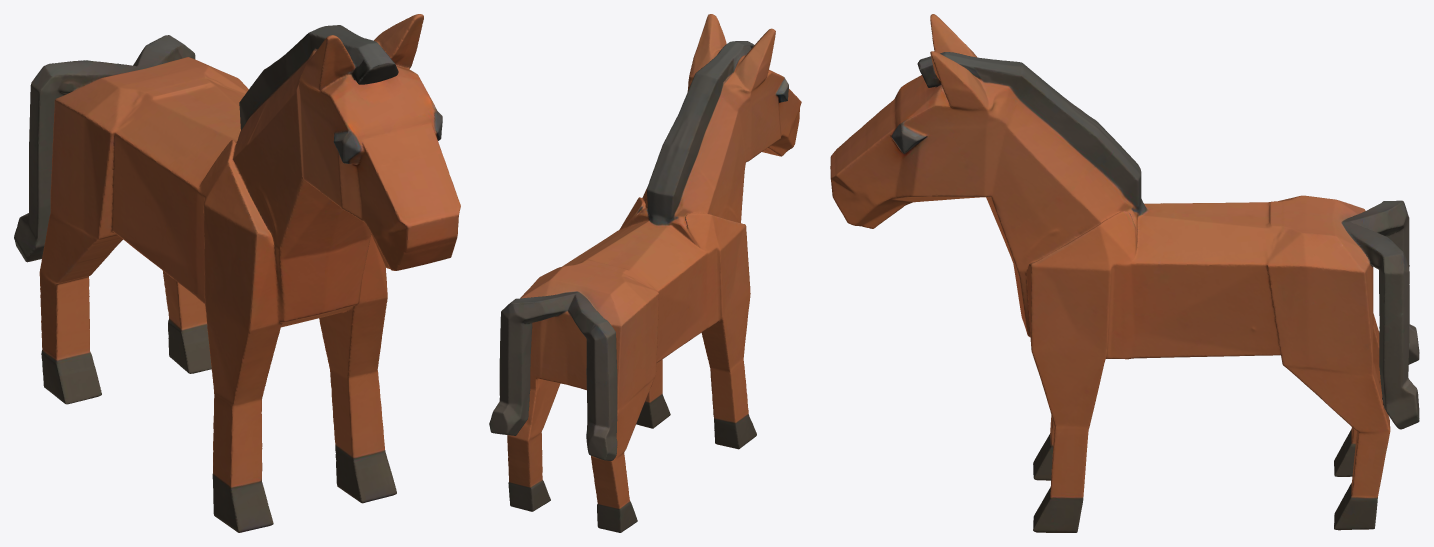
Rendered from horse.glb.
3 views of the same model, side by side, from view 1: azimuth 30°, elevation 25°; view 2: azimuth 150°, elevation 25°; view 3: azimuth 270°, elevation 25° (orthographic). The views are drawn at different scales.
Parts seen in each view (by area): view 1: tripo_node_d88dfc45-259e-4ca8-b5dd-736f35578bac; view 2: tripo_node_d88dfc45-259e-4ca8-b5dd-736f35578bac; view 3: tripo_node_d88dfc45-259e-4ca8-b5dd-736f35578bac.
Boxes of the visible parts, x1,y1,x2,y2 form: tripo_node_d88dfc45-259e-4ca8-b5dd-736f35578bac: (14,14,460,532); tripo_node_d88dfc45-259e-4ca8-b5dd-736f35578bac: (489,14,801,532); tripo_node_d88dfc45-259e-4ca8-b5dd-736f35578bac: (830,14,1419,532).
Bounding box in the file's own units: 0.292 × 0.8754 × 1.
1 material, 1 textured.
